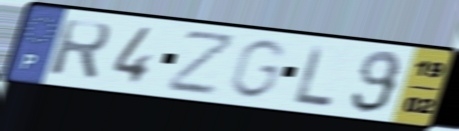4: (109, 26, 156, 87)
9: (347, 48, 403, 116)
G: (225, 37, 289, 101)
L: (292, 42, 336, 109)
R: (46, 17, 114, 83)
Z: (164, 30, 241, 97)
